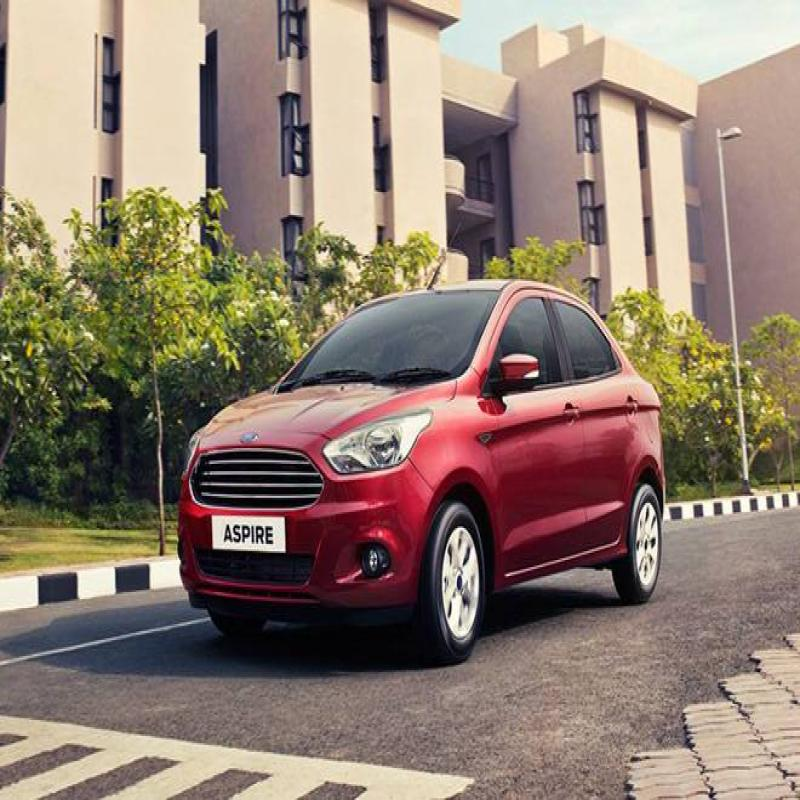car: (158, 269, 671, 661)
